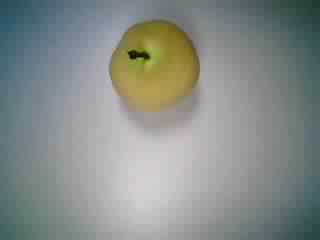pear: (99, 14, 209, 128)
